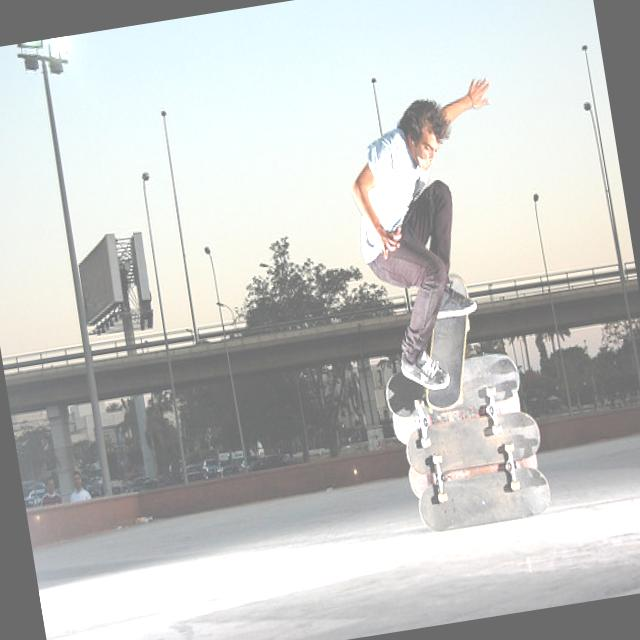Vehicle: (167, 454, 204, 485), (240, 454, 273, 472), (200, 454, 218, 480), (29, 488, 47, 502), (111, 482, 123, 494)
